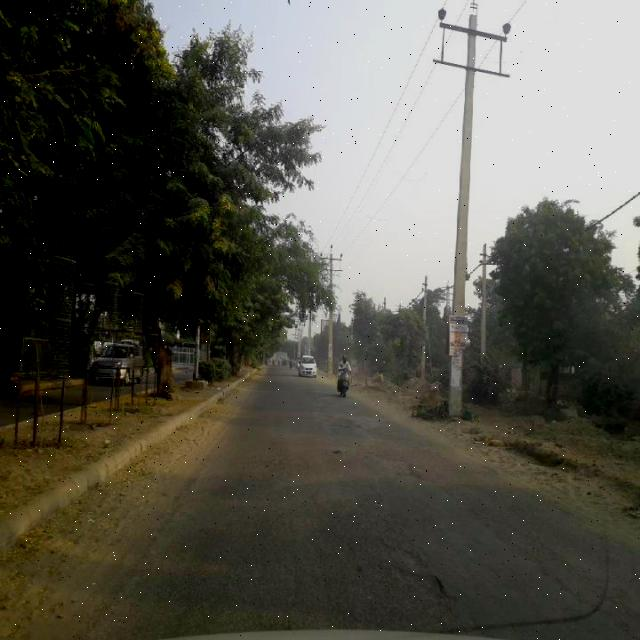D40: (370, 530, 468, 608)
